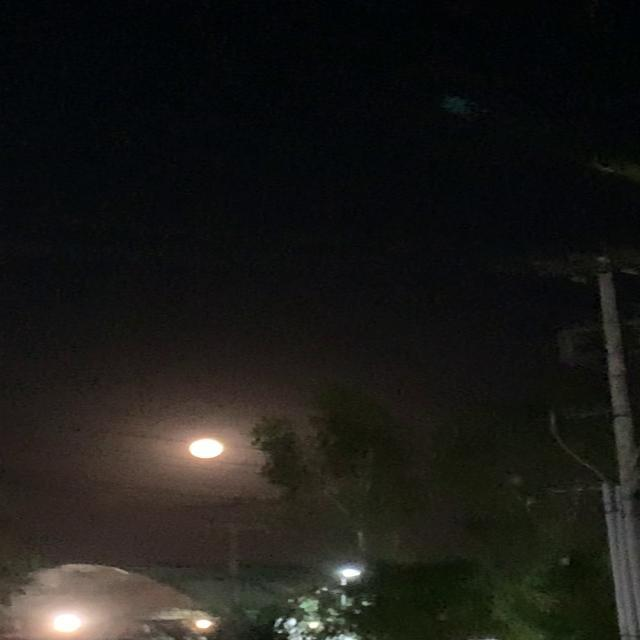moon: (193, 438, 235, 462)
